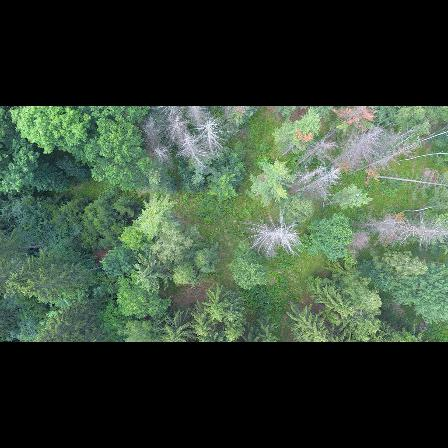Dead: (354, 138, 433, 172), (243, 217, 304, 258), (293, 171, 345, 198), (336, 130, 381, 161), (298, 134, 341, 165), (392, 224, 447, 239), (352, 215, 400, 231), (202, 117, 222, 147), (181, 134, 202, 162), (167, 117, 187, 140), (295, 168, 326, 182), (185, 107, 207, 126), (161, 106, 184, 124), (155, 143, 173, 161)
